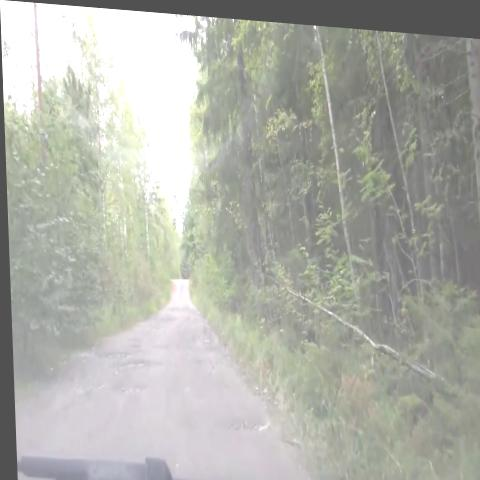pothole: (181, 320, 230, 378), (216, 398, 274, 445), (110, 350, 156, 378), (106, 381, 147, 404), (89, 342, 126, 365), (119, 328, 144, 354), (150, 305, 177, 328), (165, 296, 194, 315)
